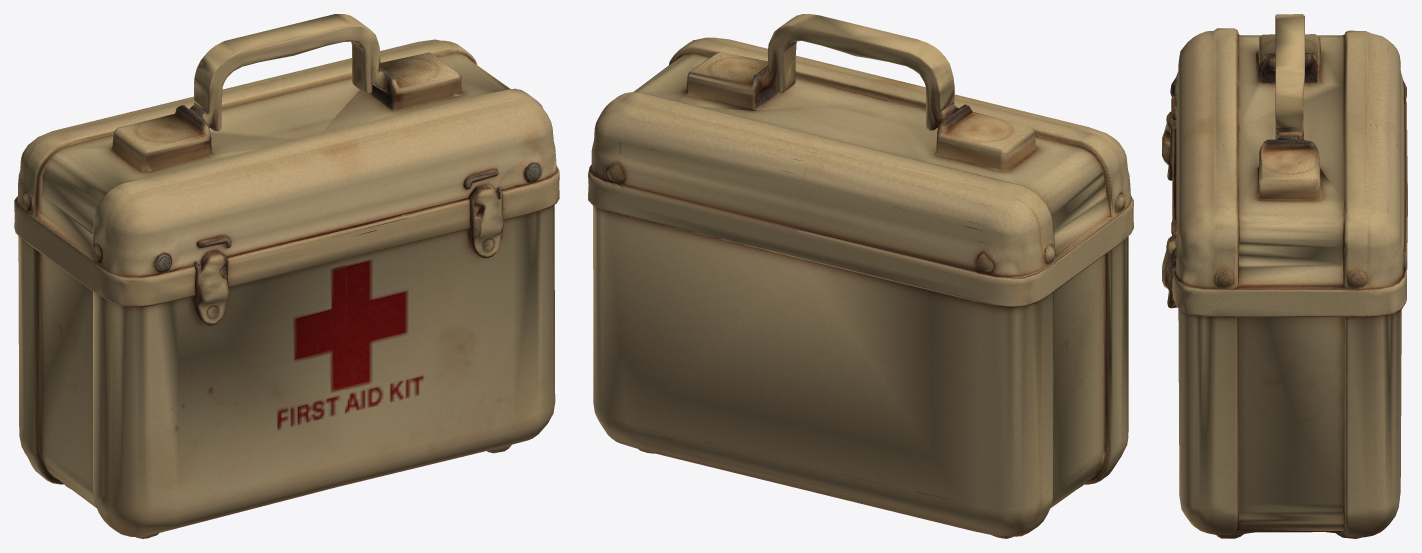
File: Medkit.fbx
3 views of the same model, side by side, from view 1: azimuth 30°, elevation 25°; view 2: azimuth 150°, elevation 25°; view 3: azimuth 270°, elevation 25° (orthographic). The views are drawn at different scales.
Parts seen in each view (by area): view 1: mesh_node; view 2: mesh_node; view 3: mesh_node.
Boxes of the visible parts, x1,y1,x2,y2 form: mesh_node: (14,14,559,538); mesh_node: (588,14,1133,538); mesh_node: (1162,14,1407,538).
Size of the model in its own units: 191 by 174 by 94.32.
1 material, 1 textured.
